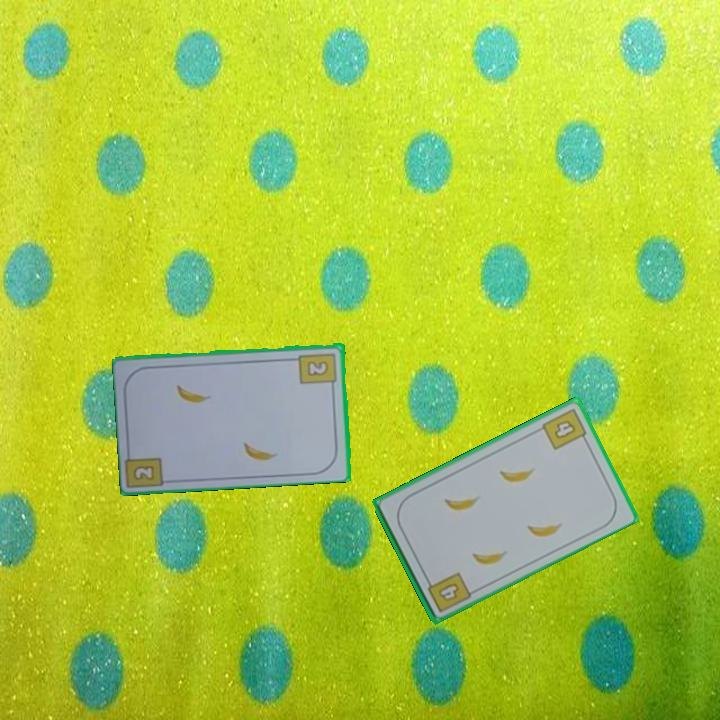2b: (296, 349, 340, 391), (129, 462, 158, 484)
4b: (538, 404, 591, 453), (422, 568, 474, 615)
